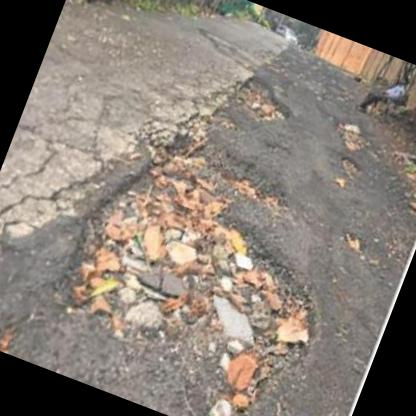pothole: (21, 103, 368, 416), (224, 69, 300, 131), (327, 112, 375, 152), (336, 152, 364, 178)
